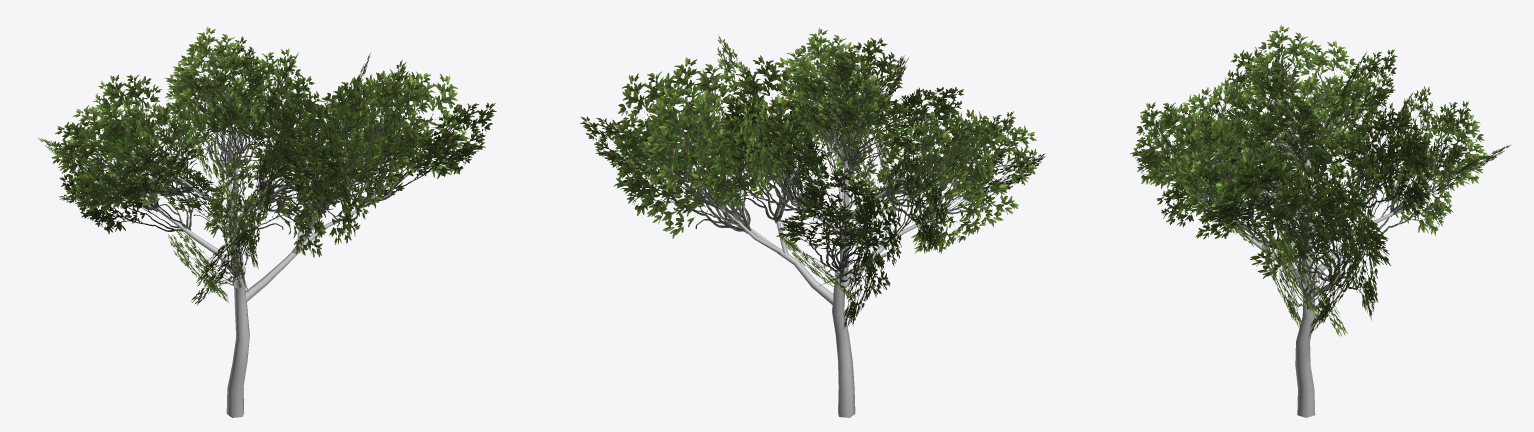
File: tree2.FBX
3 views of the same model, side by side, from view 1: azimuth 30°, elevation 25°; view 2: azimuth 150°, elevation 25°; view 3: azimuth 270°, elevation 25° (orthographic).
Parts seen in each view (by area): view 1: tree2; view 2: tree2; view 3: tree2.
Part boxes in pixels (x1,y1,x2,y2): tree2: [37, 26, 496, 417]; tree2: [580, 27, 1045, 417]; tree2: [1130, 24, 1511, 417].
Size of the model in its own units: 55.07 by 45.57 by 44.57.
